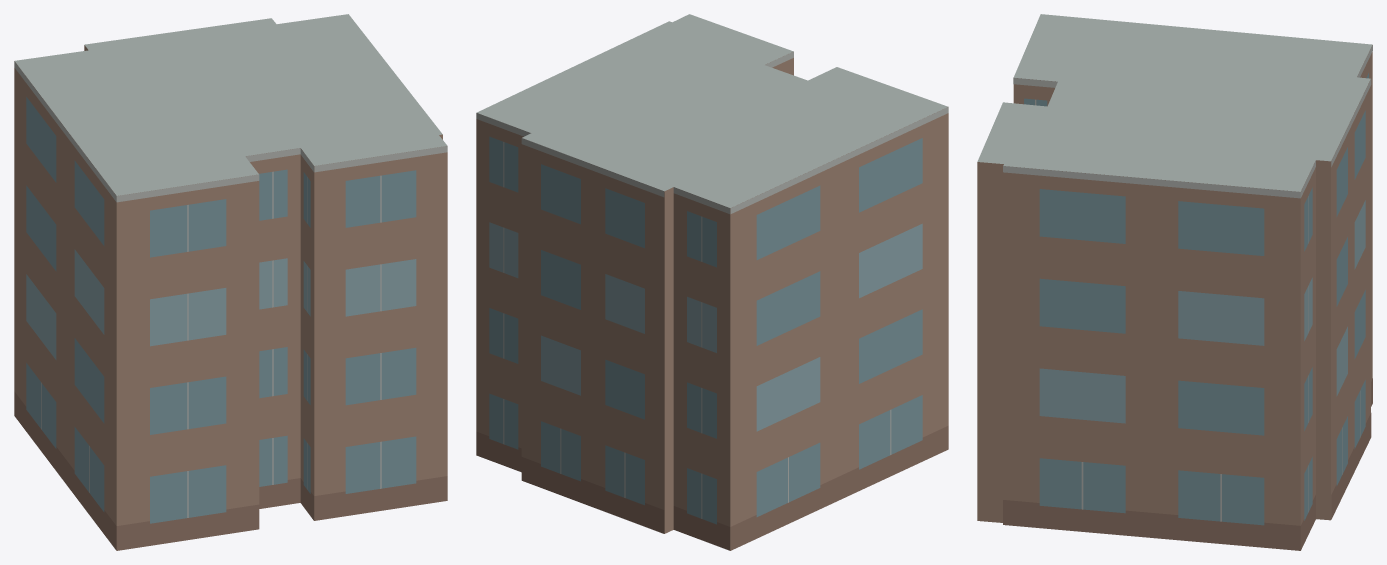
File: survey-upis-32660206.glb
The picture shows the model from 3 angles, left to right: view 1: azimuth 30°, elevation 25°; view 2: azimuth 150°, elevation 25°; view 3: azimuth 270°, elevation 25°; orthographic projection. The views are drawn at different scales.
Parts seen in each view (by area): view 1: survey-upis-32660206.tmp; view 2: survey-upis-32660206.tmp; view 3: survey-upis-32660206.tmp.
Part boxes in pixels (<box>): survey-upis-32660206.tmp: <box>14,14,447,550</box>; survey-upis-32660206.tmp: <box>476,14,948,550</box>; survey-upis-32660206.tmp: <box>977,14,1372,550</box>.
Bounding box in the file's own units: 14.3 × 13.45 × 13.44.
